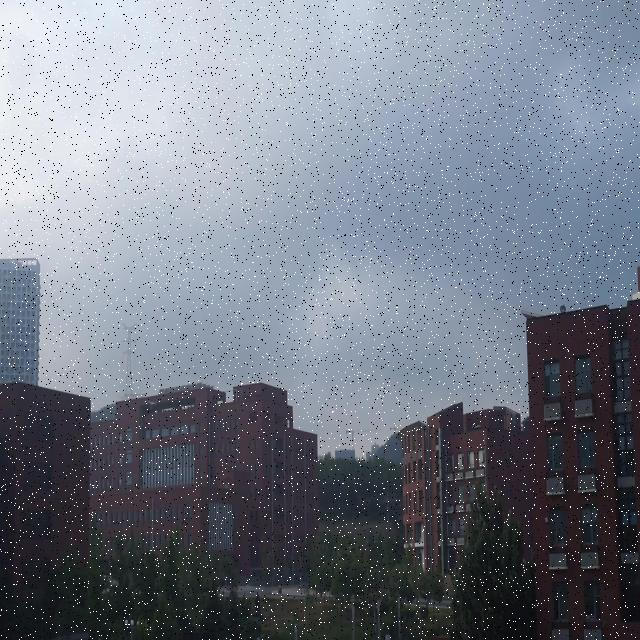UAV: (147, 400, 157, 409)
